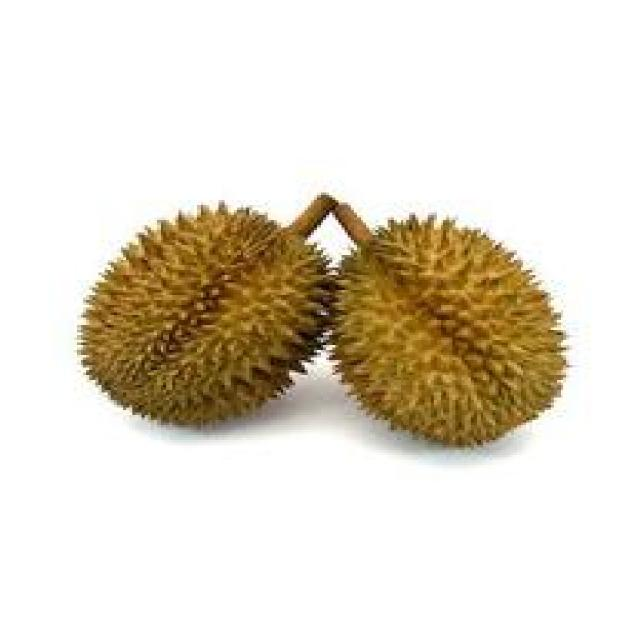fruit: (52, 178, 360, 462), (302, 192, 590, 482)
